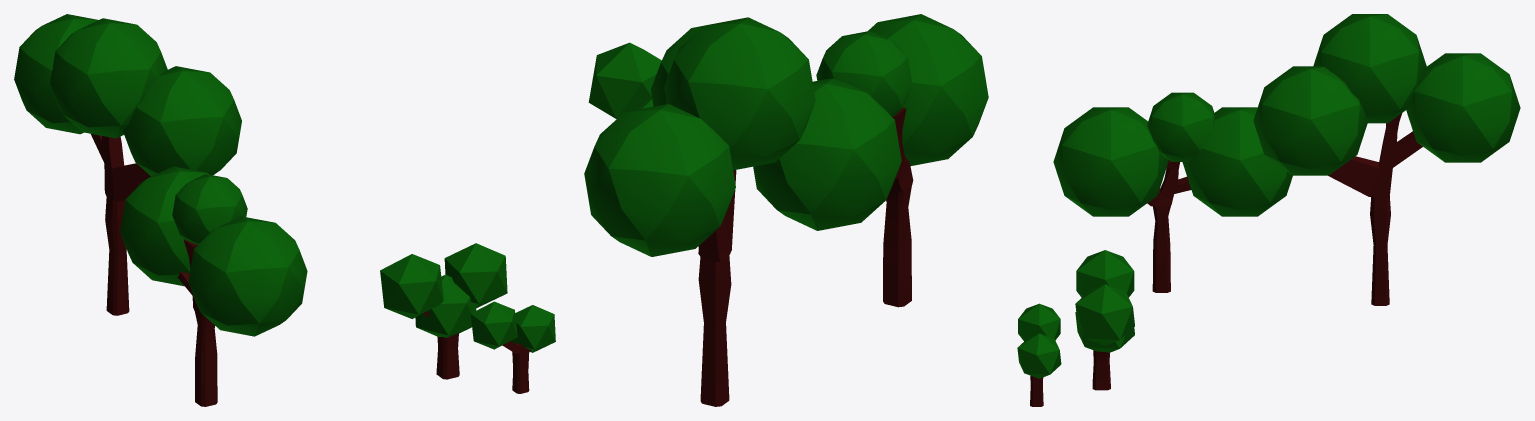
Rendered from trees.fbx.
3 views of the same model, side by side, from view 1: azimuth 30°, elevation 25°; view 2: azimuth 150°, elevation 25°; view 3: azimuth 270°, elevation 25° (orthographic). The views are drawn at different scales.
Visible parts, largest first — view 1: Arvore_1, Arvore_2, Arbusto_1, Arbusto_2; view 2: Arvore_1, Arvore_2, Arbusto_1; view 3: Arvore_1, Arvore_2, Arbusto_1, Arbusto_2.
Boxes of the visible parts, x1,y1,x2,y2 form: Arvore_1: (14, 14, 241, 315); Arvore_2: (120, 166, 307, 406); Arbusto_1: (380, 243, 507, 379); Arbusto_2: (470, 301, 555, 393); Arvore_1: (584, 17, 815, 406); Arvore_2: (753, 14, 988, 307); Arbusto_1: (588, 42, 661, 119); Arvore_1: (1253, 14, 1520, 305); Arvore_2: (1053, 92, 1292, 292); Arbusto_1: (1075, 250, 1134, 390); Arbusto_2: (1017, 303, 1061, 406).
Bounding box in the file's own units: 1020 × 904 × 1476.
